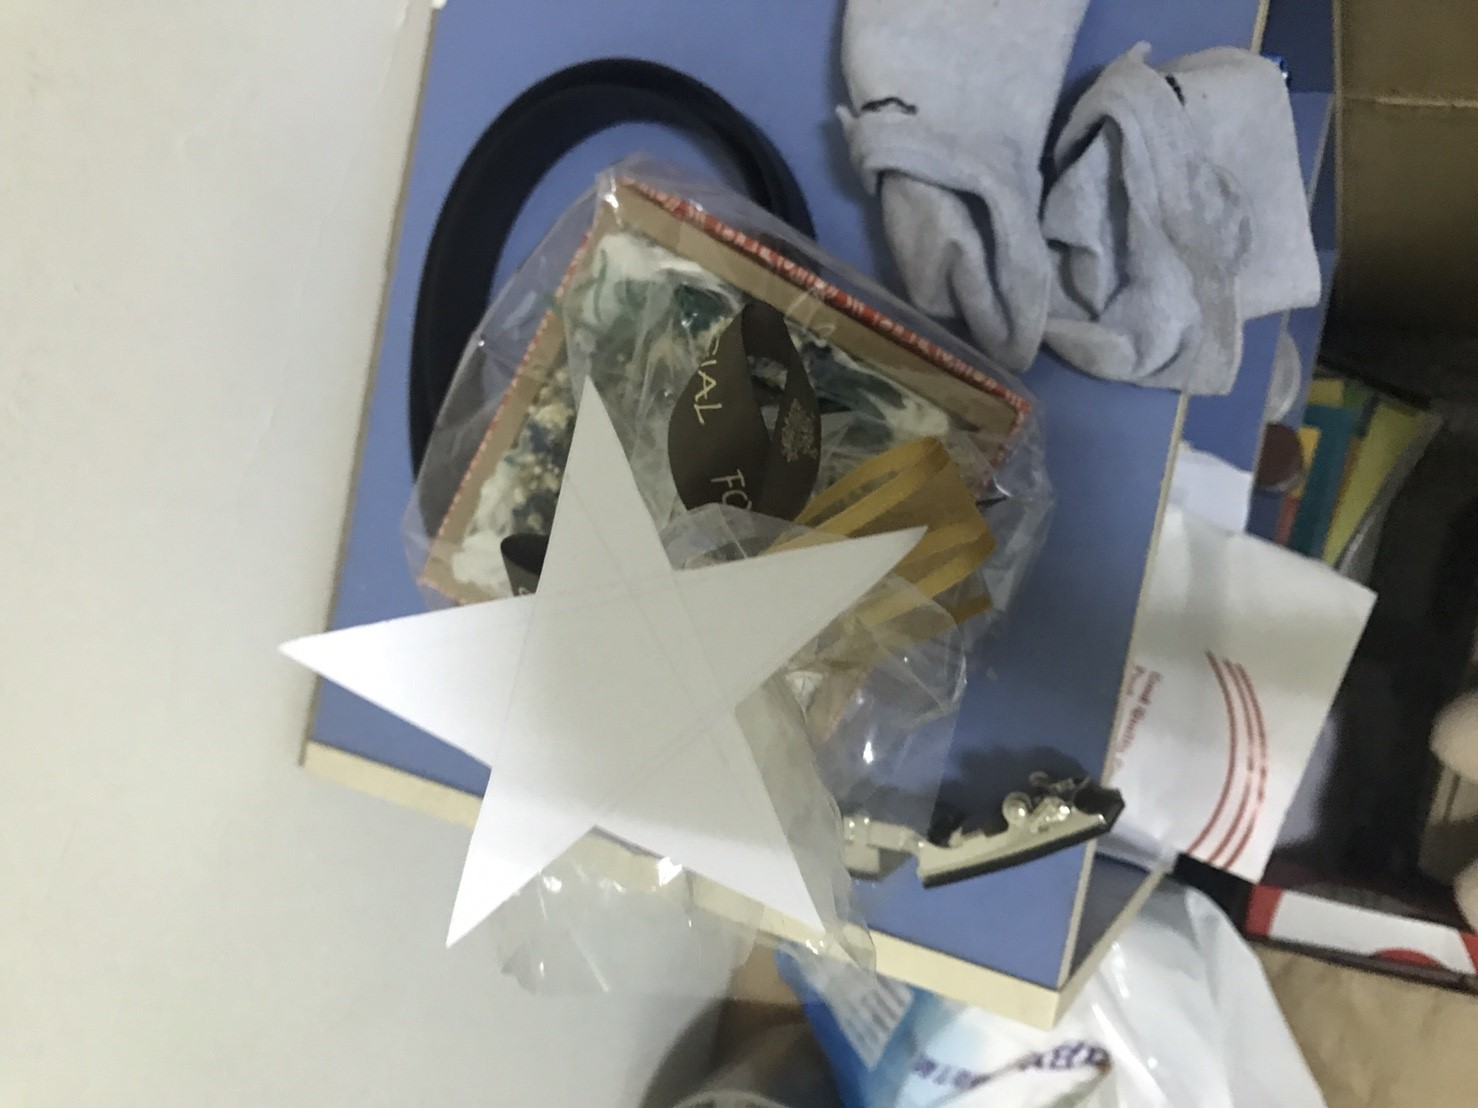star: (262, 372, 928, 959)
